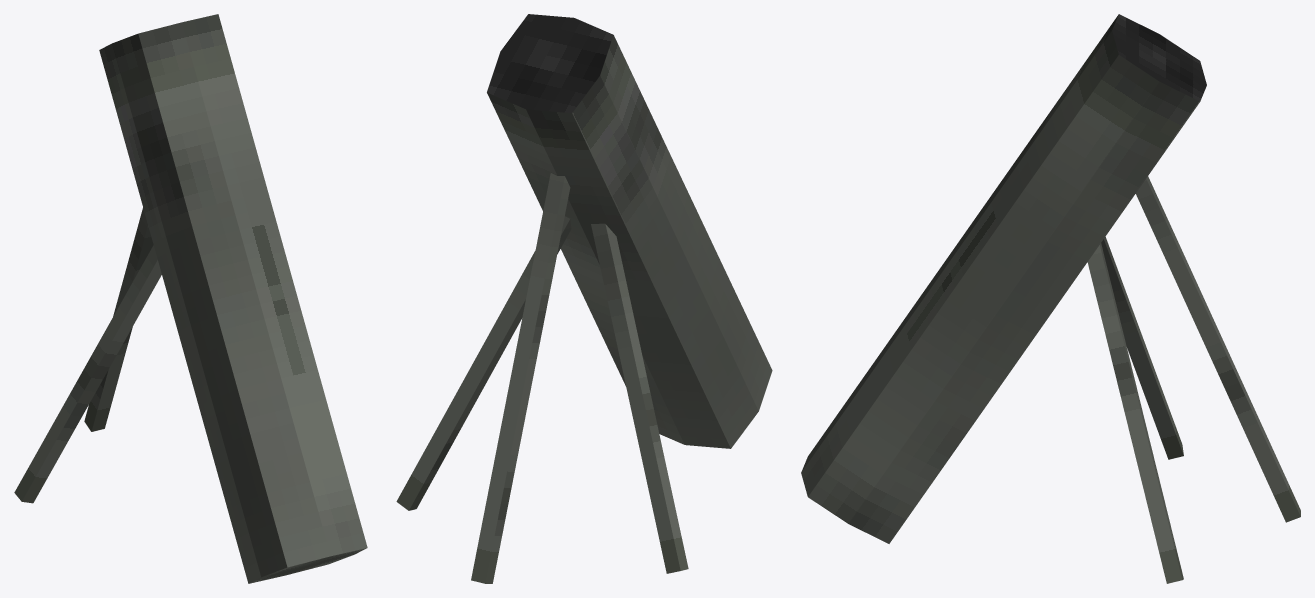
File: mortar.gltf
3 renders of one model, left to right at view 1: azimuth 30°, elevation 25°; view 2: azimuth 150°, elevation 25°; view 3: azimuth 270°, elevation 25°, orthographic. The views are drawn at different scales.
Parts seen in each view (by area): view 1: mesh (×3); view 2: mesh (×4); view 3: mesh (×4).
Boxes of the visible parts, x1=… form: mesh (×3): x1=14, y1=14, x2=367, y2=583; mesh (×4): x1=396, y1=14, x2=772, y2=583; mesh (×4): x1=801, y1=14, x2=1300, y2=583.
Bounding box in the file's own units: 0.6245 × 1.07 × 0.9713.
1 material, 1 textured.
